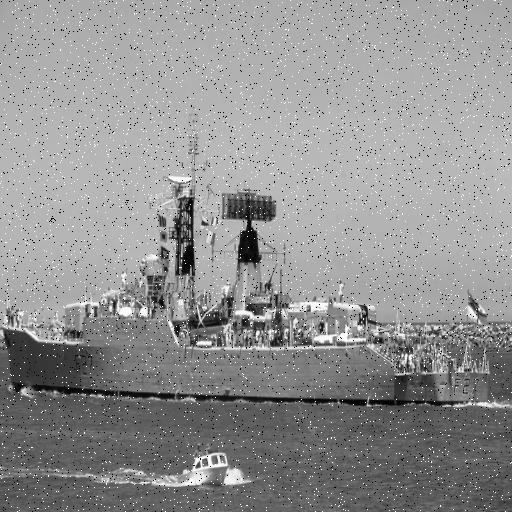Fragata: (1, 181, 494, 408)
